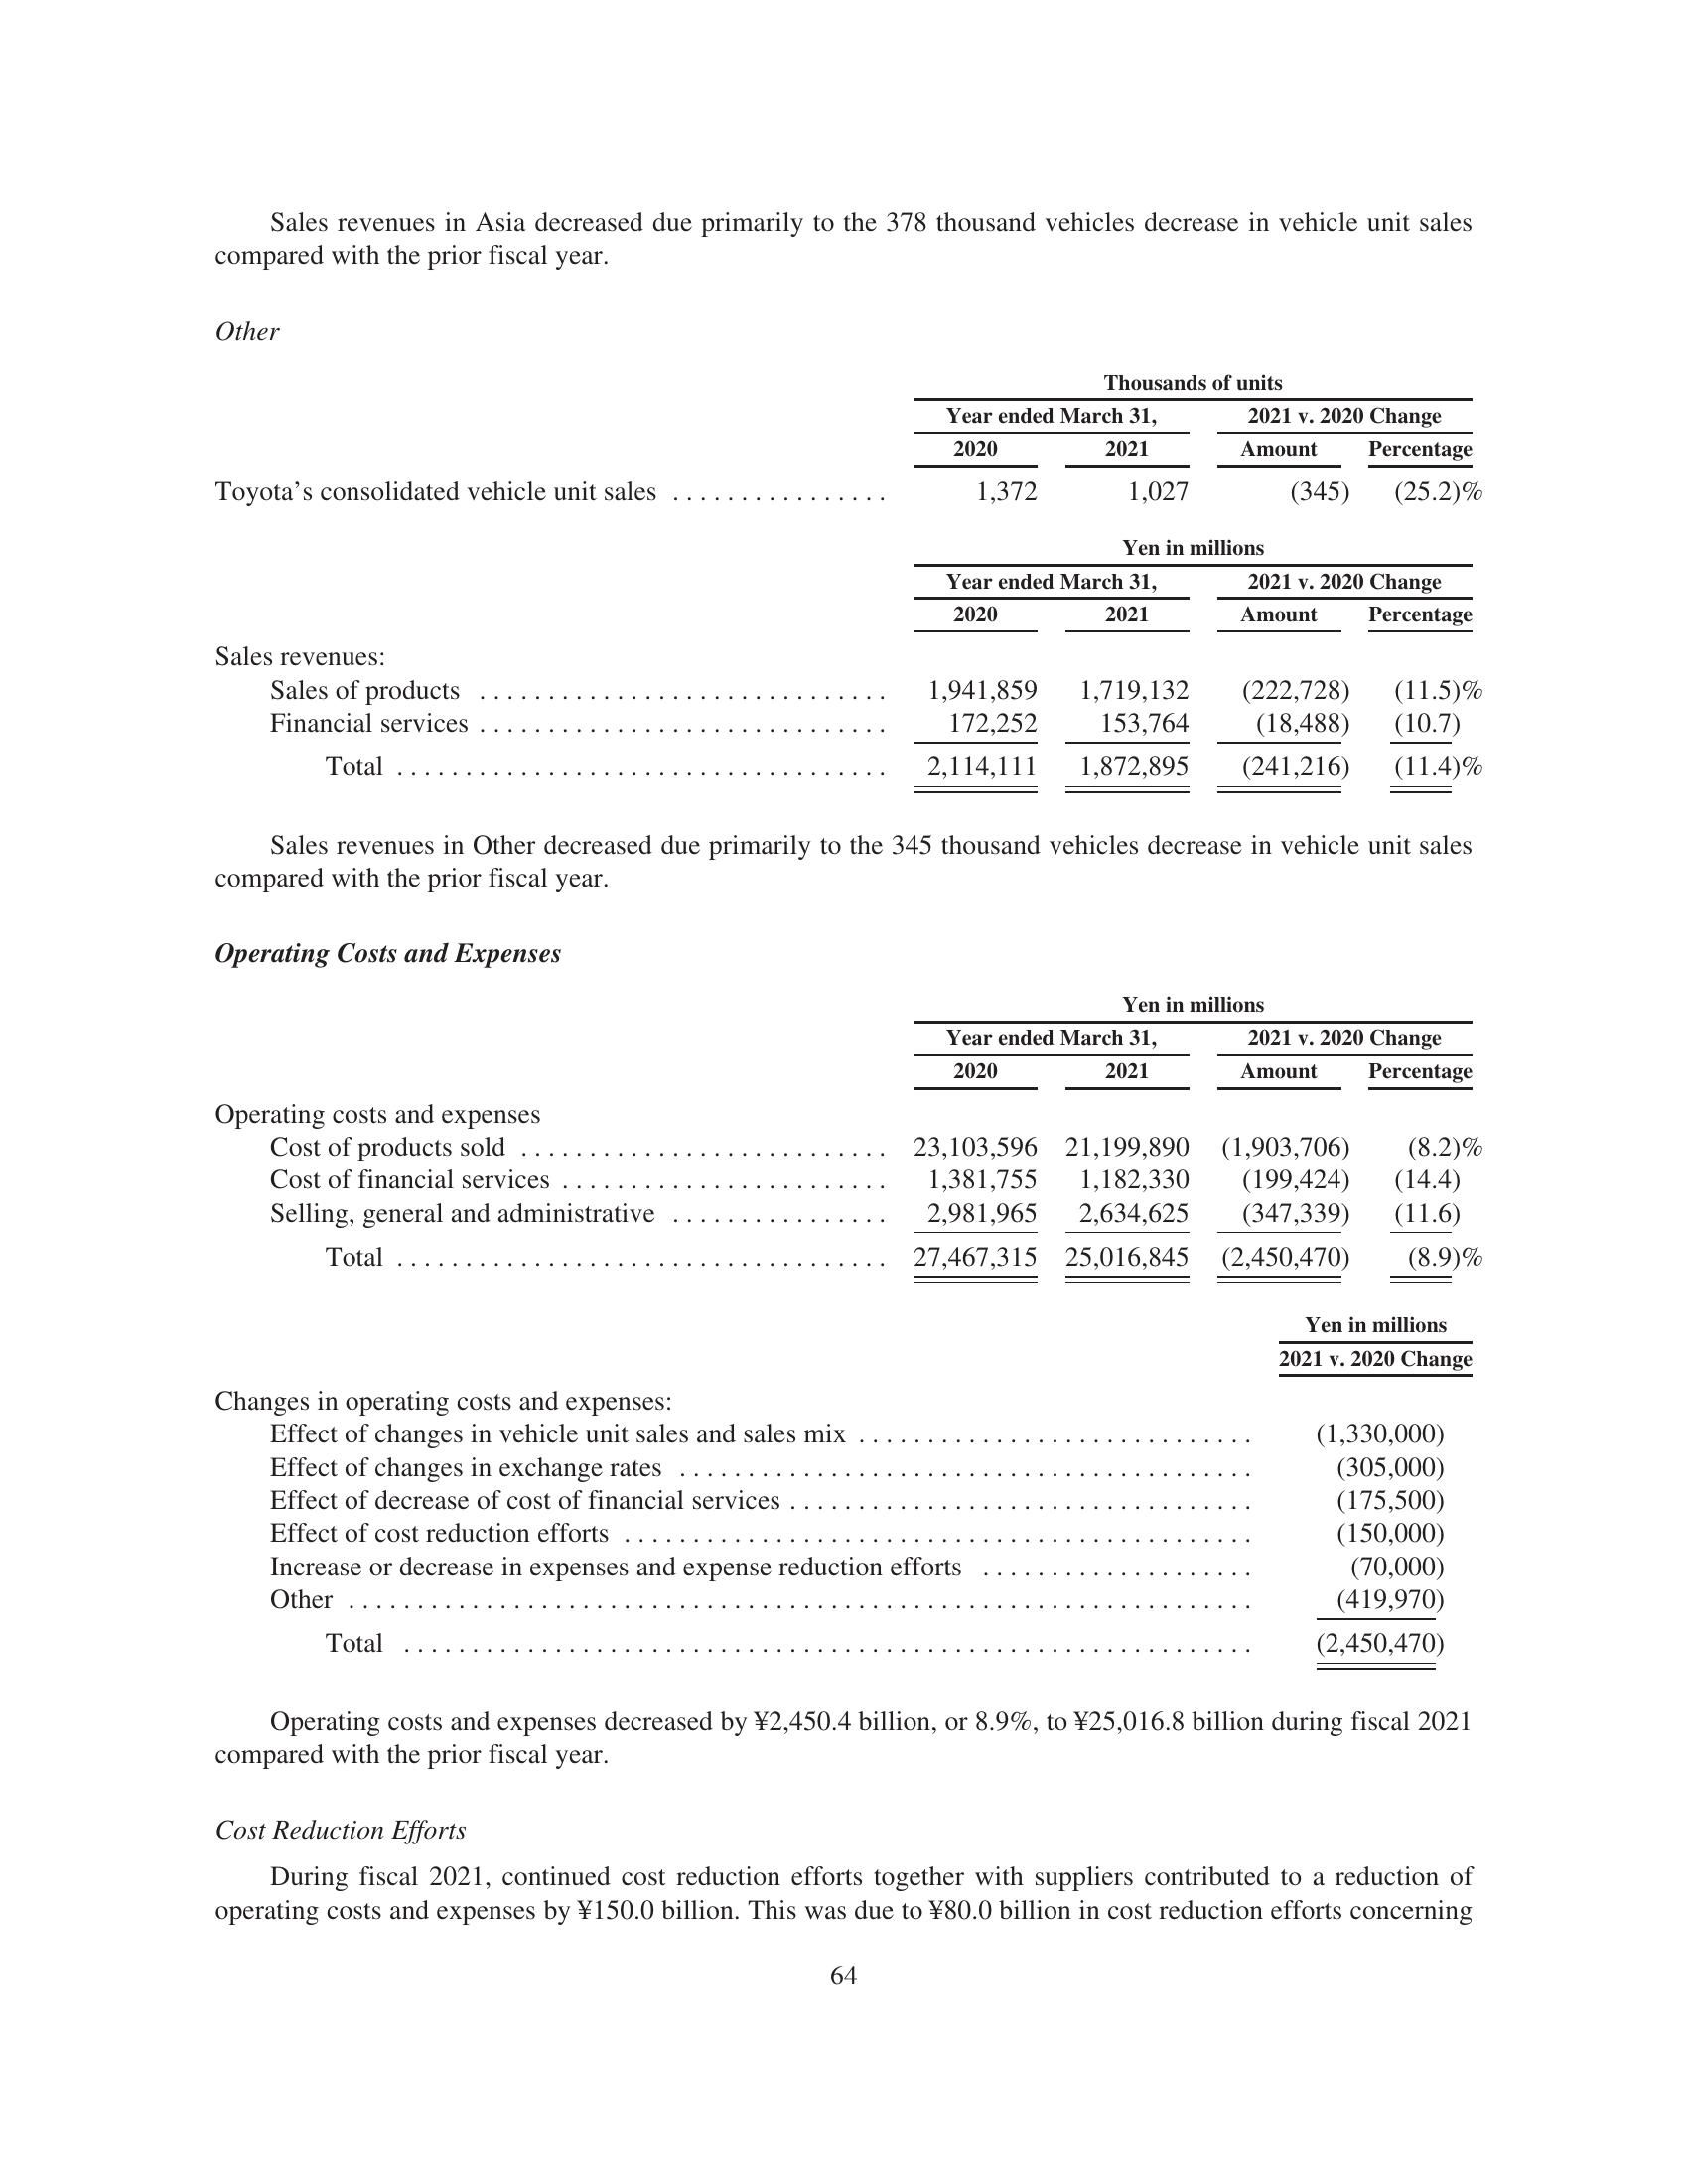Footer: (2, 1941, 1688, 2184)
Header: (0, 0, 1688, 188)
Table: (184, 1308, 1491, 1695), (184, 979, 1525, 1285), (151, 523, 1509, 808), (151, 349, 1518, 511)
